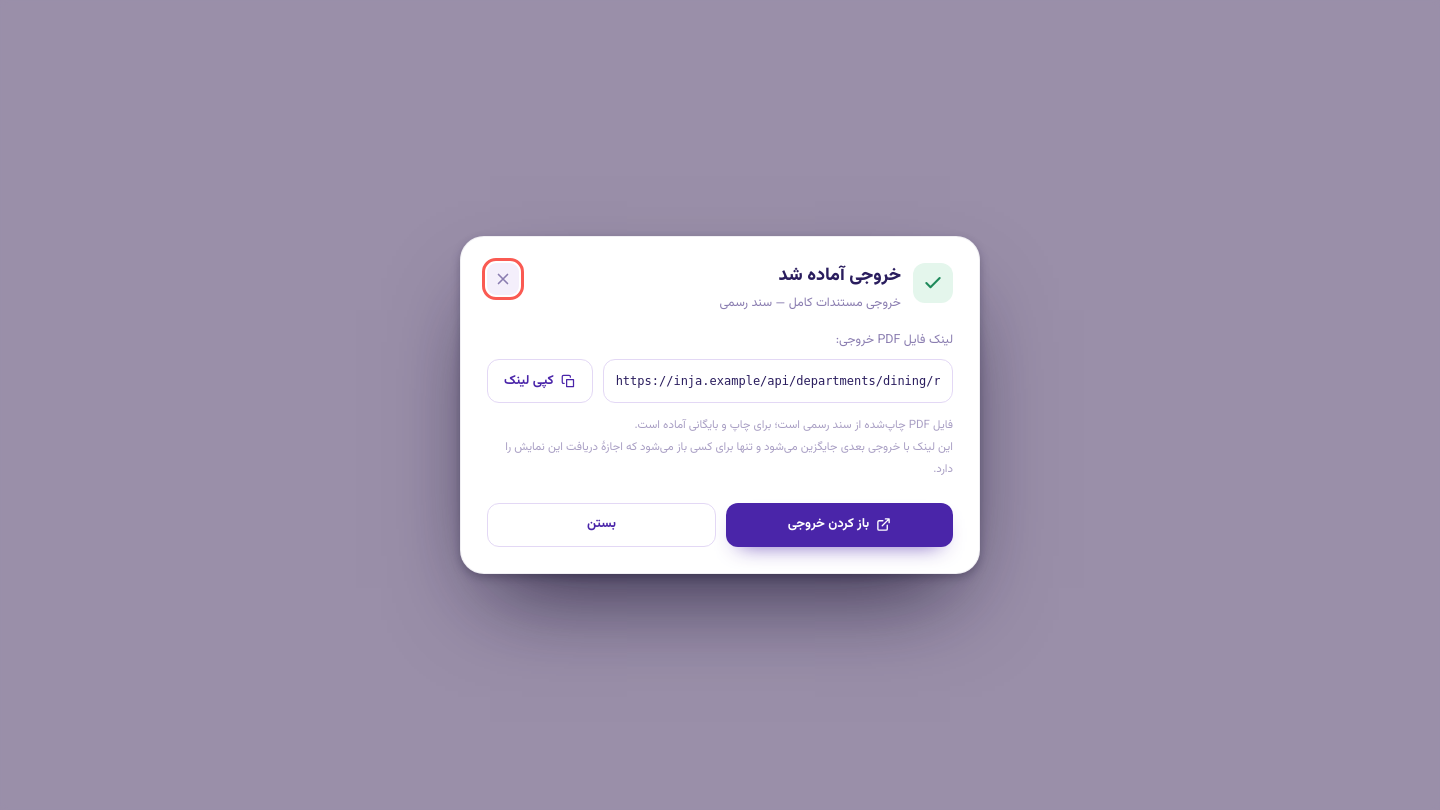
Test: ExportModal › copies through execCommand when navigator.clipboard is absent
Click the button "کپی لینک" at (540, 381), box 487,359 -> 593,403
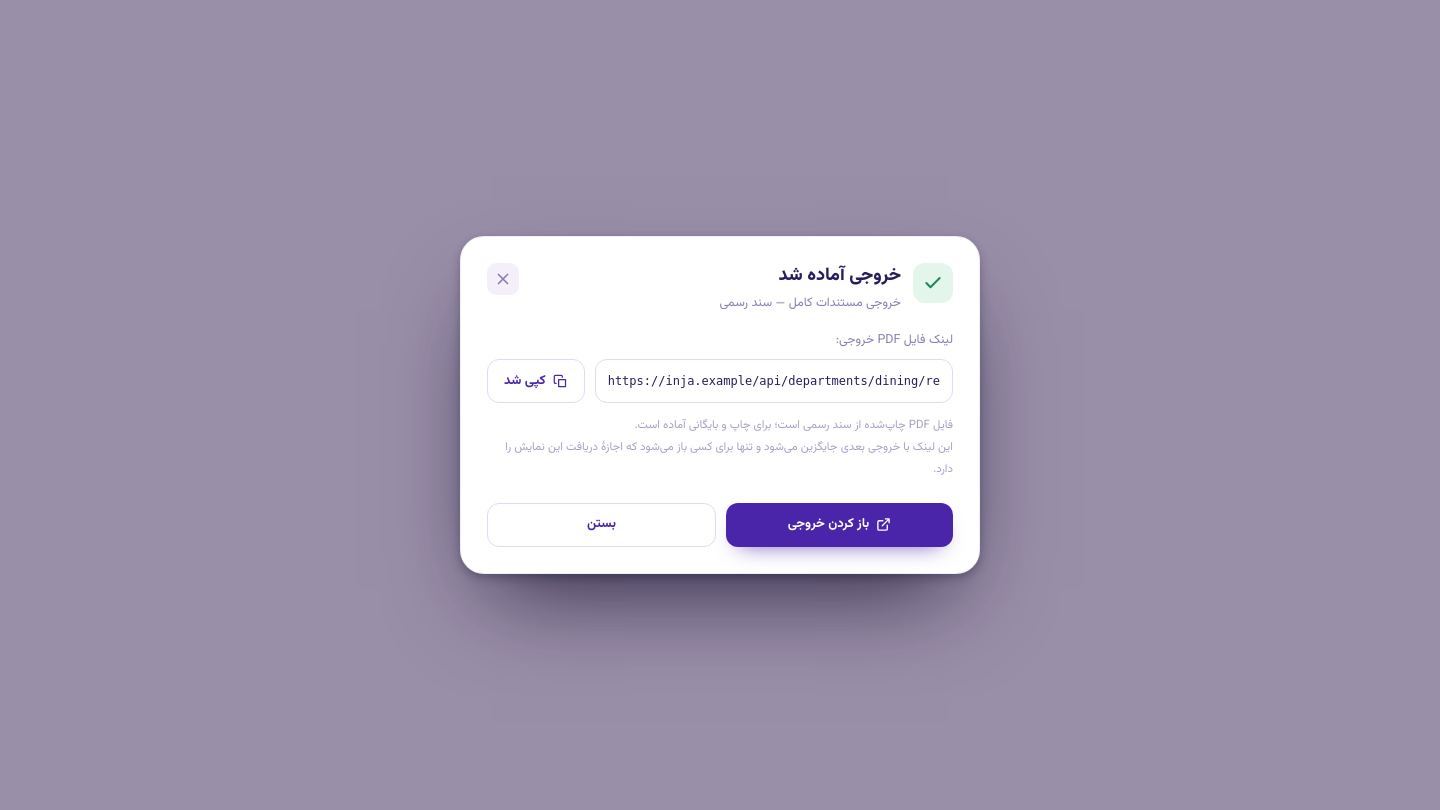
Expected: the button "کپی شد" is shown, 487,359 -> 585,403
